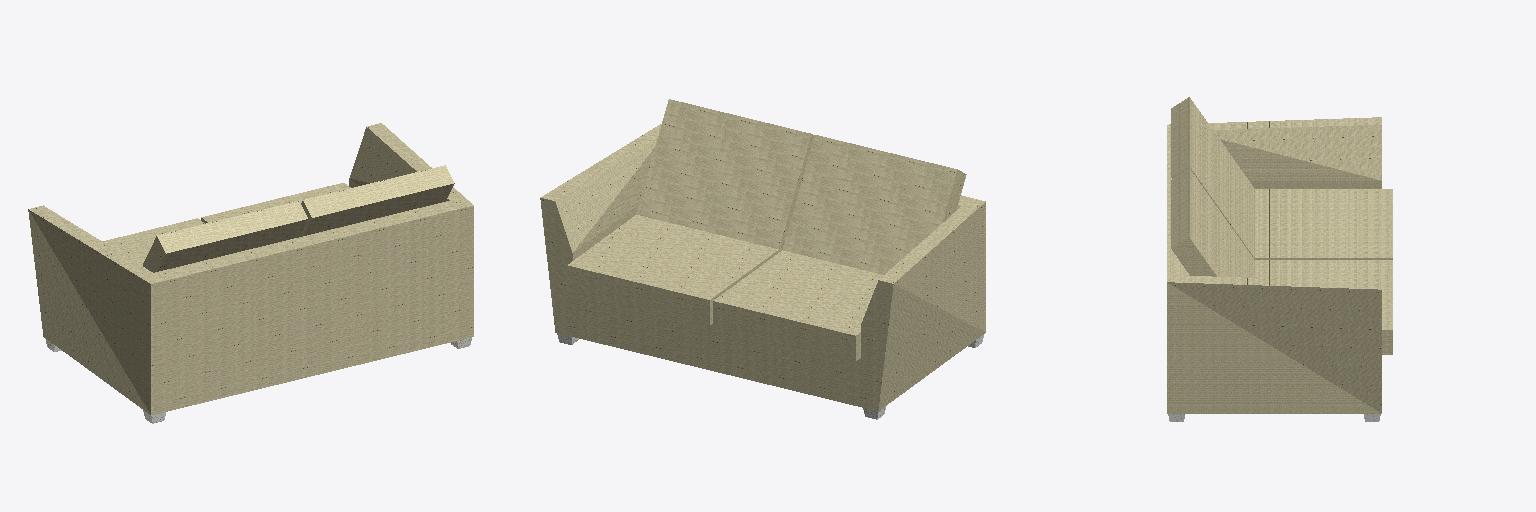
The picture shows the model from 3 angles: view 1: azimuth 30°, elevation 25°; view 2: azimuth 150°, elevation 25°; view 3: azimuth 270°, elevation 25°; orthographic projection.
Visible parts, largest first — view 1: mesh1_mesh1-geometry; view 2: mesh1_mesh1-geometry; view 3: mesh1_mesh1-geometry.
Part boxes in pixels (x1,y1,x2,y2): mesh1_mesh1-geometry: (28, 123, 473, 423); mesh1_mesh1-geometry: (540, 99, 985, 419); mesh1_mesh1-geometry: (1167, 97, 1392, 421).
Bounding box in the file's own units: 0.8065 × 0.387 × 0.4471.
Materials: 3 (1 with a texture image).